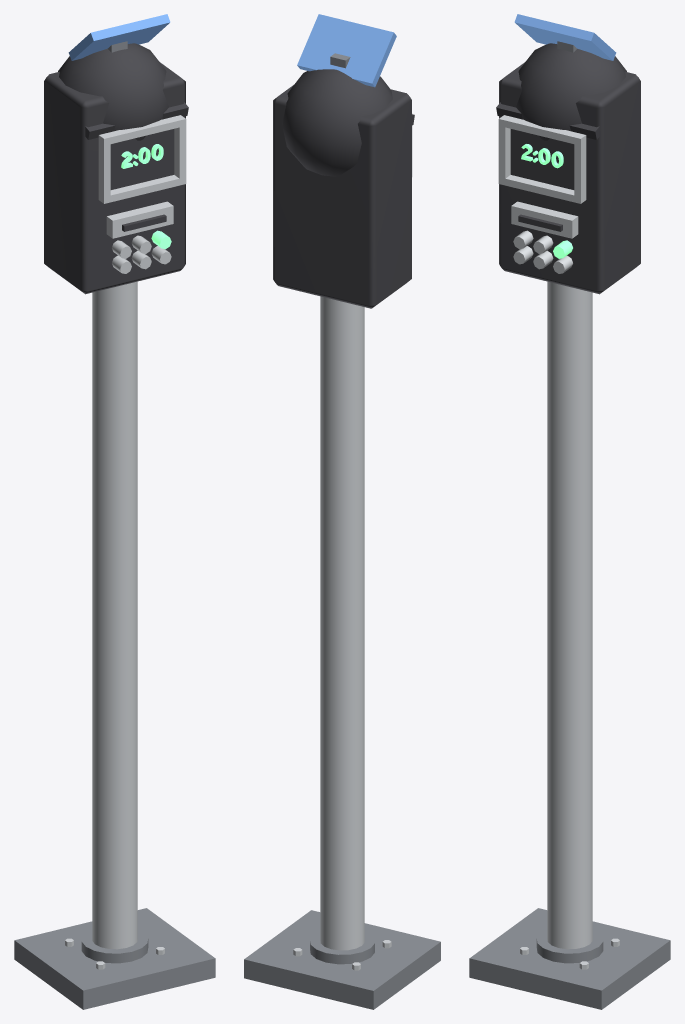
File: ParkingMeter_Single.fbx
3 views of the same model, side by side, from view 1: azimuth 30°, elevation 25°; view 2: azimuth 150°, elevation 25°; view 3: azimuth 330°, elevation 25° (orthographic). The views are drawn at different scales.
Visible parts, largest first — view 1: LOD0; view 2: LOD0; view 3: LOD0.
Boxes of the visible parts, left/top/right/bottom form: LOD0: left=14, top=14, right=215, bottom=1009; LOD0: left=244, top=14, right=440, bottom=1009; LOD0: left=469, top=14, right=670, bottom=1009.
Size of what is drawn, in the model's own units: 20 by 138 by 18.
